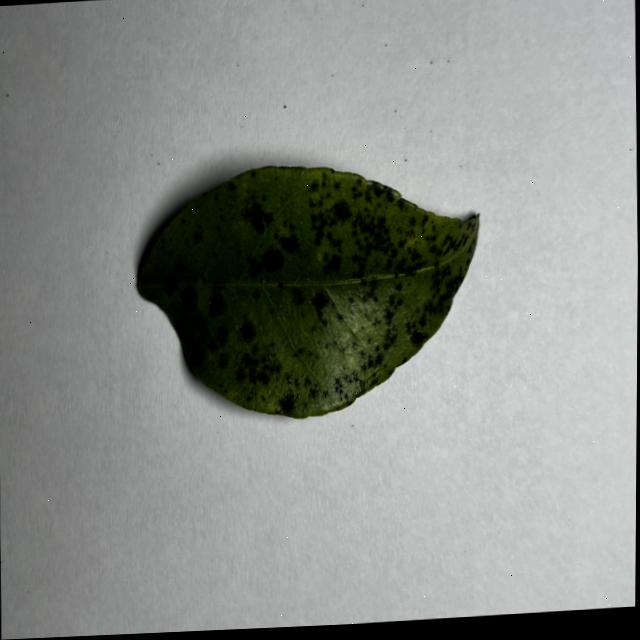sooty_mold: (139, 166, 479, 418)
